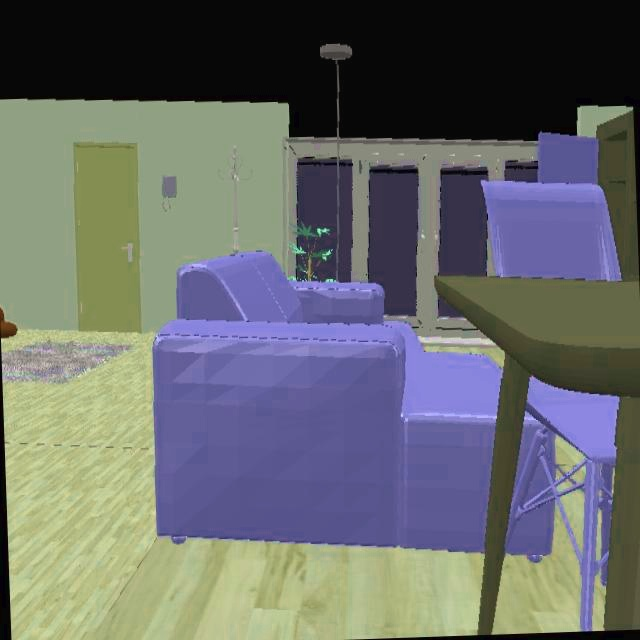chair: (505, 377, 617, 628), (482, 182, 620, 278)
sofa: (153, 252, 500, 550), (508, 506, 553, 555)
table: (435, 278, 640, 632)
